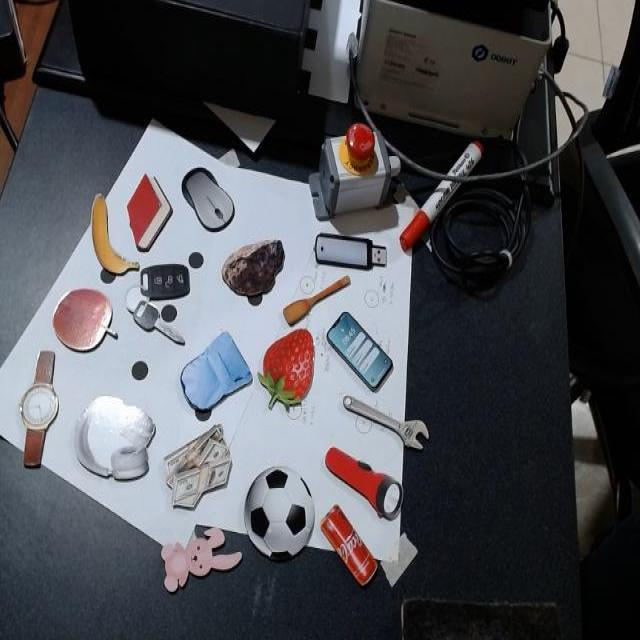Other Objects: (172, 326, 254, 428), (316, 443, 408, 526), (322, 304, 397, 398), (75, 396, 156, 482), (122, 253, 192, 343), (246, 468, 313, 560), (174, 154, 240, 244), (164, 425, 232, 510), (160, 525, 242, 592), (326, 311, 393, 393), (339, 395, 431, 454), (280, 262, 353, 330), (18, 349, 59, 468), (319, 503, 378, 585), (90, 192, 139, 275), (52, 289, 115, 351), (220, 237, 284, 296), (314, 231, 388, 273)
